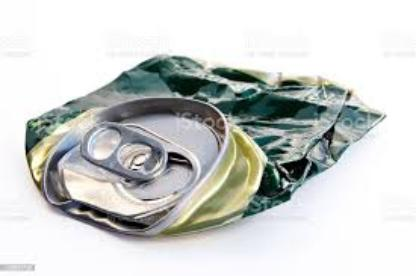Can: (23, 52, 389, 240)
